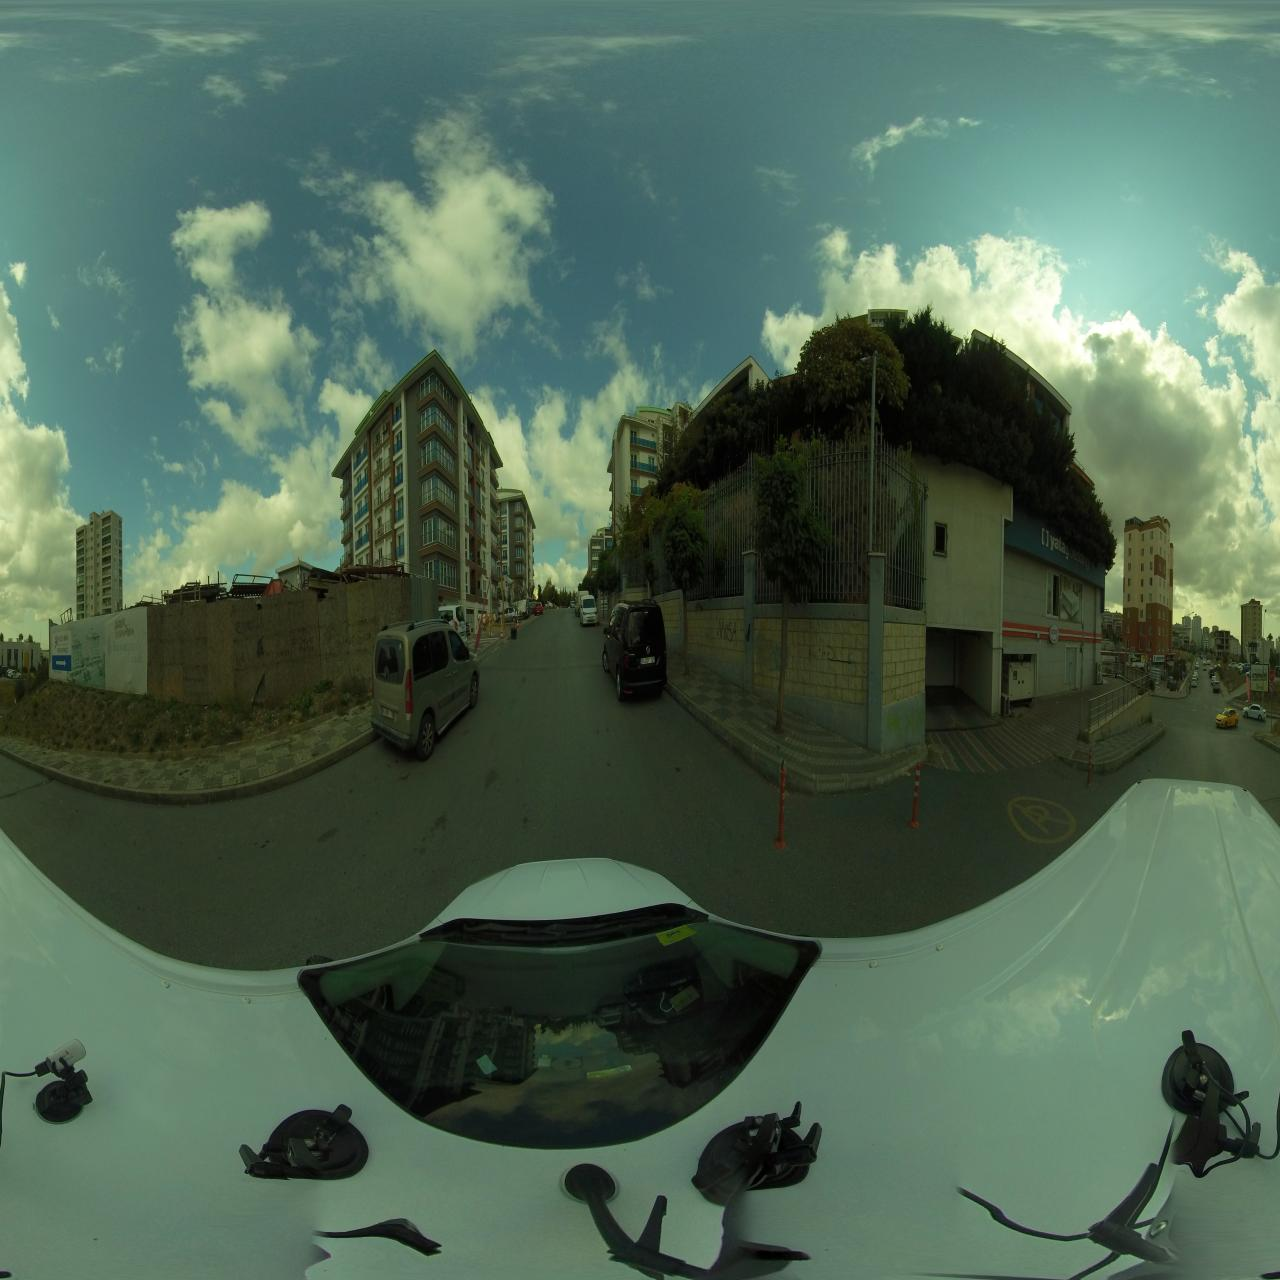SignStore: (1033, 520, 1097, 583), (1153, 655, 1164, 662)
